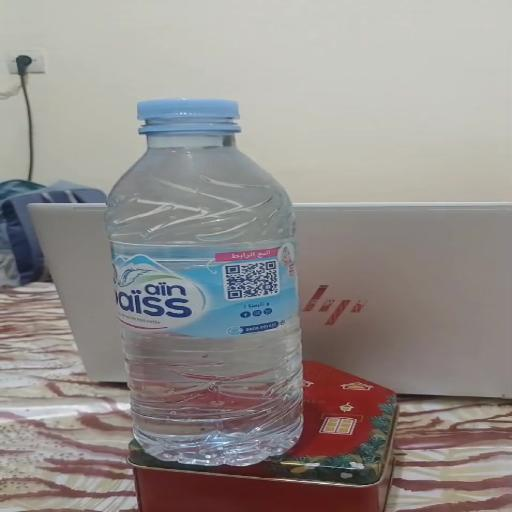bouteille non conformite: (118, 88, 267, 160)
